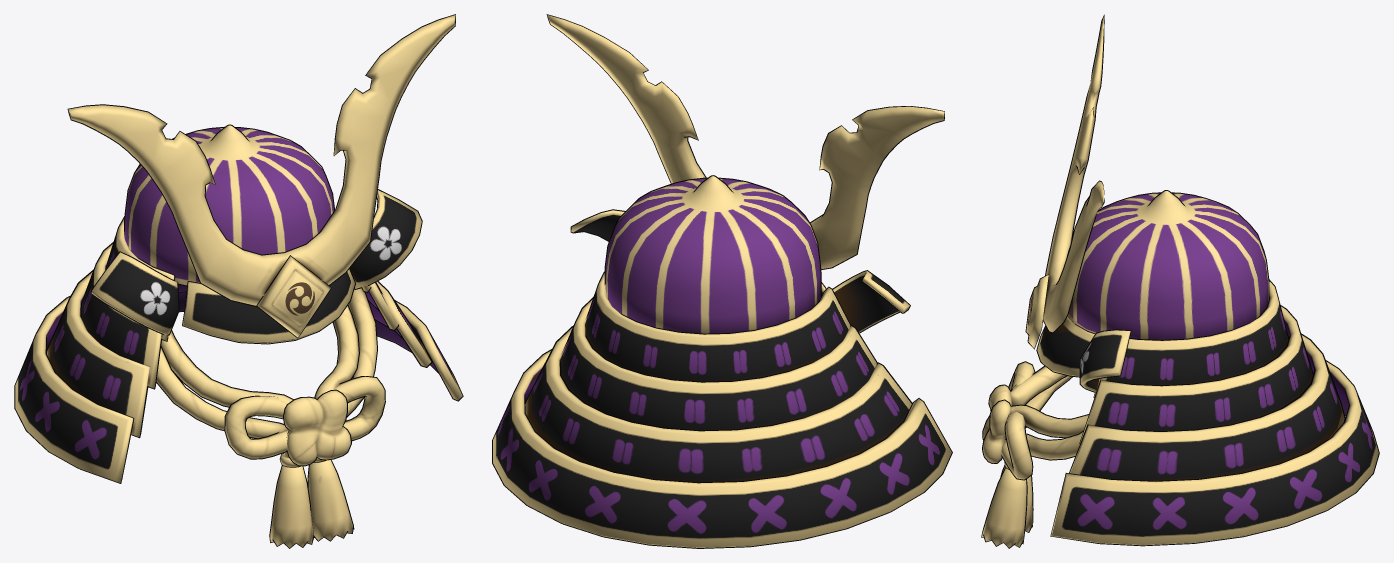
File: helmet.glb
3 views of the same model, side by side, from view 1: azimuth 30°, elevation 25°; view 2: azimuth 150°, elevation 25°; view 3: azimuth 270°, elevation 25° (orthographic). The views are drawn at different scales.
Parts seen in each view (by area): view 1: LOW_Ornate_Kabuto, LOW_Ornate_Kabuto_shade; view 2: LOW_Ornate_Kabuto, LOW_Ornate_Kabuto_shade; view 3: LOW_Ornate_Kabuto, LOW_Ornate_Kabuto_shade.
Part boxes in pixels (bbox=[...]): LOW_Ornate_Kabuto: bbox=[15, 15, 462, 547]; LOW_Ornate_Kabuto_shade: bbox=[14, 14, 463, 548]; LOW_Ornate_Kabuto: bbox=[493, 15, 951, 547]; LOW_Ornate_Kabuto_shade: bbox=[492, 14, 952, 548]; LOW_Ornate_Kabuto: bbox=[982, 15, 1378, 547]; LOW_Ornate_Kabuto_shade: bbox=[981, 14, 1379, 548].
Bounding box in the file's own units: 3.19 × 3.47 × 2.92.
2 materials, 1 textured.
